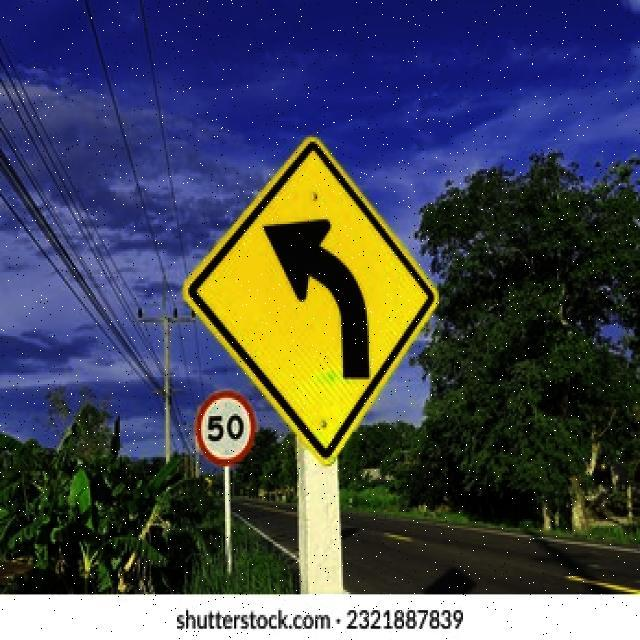Traffic sign: (180, 128, 443, 471)
